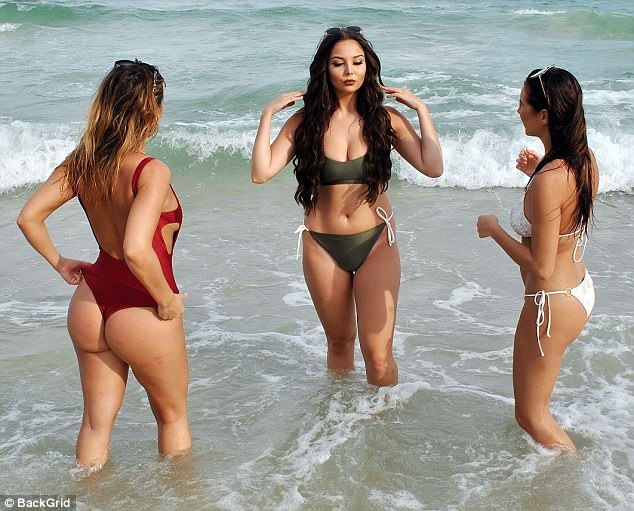Person: (16, 58, 190, 462), (250, 25, 444, 387), (475, 64, 599, 451)
